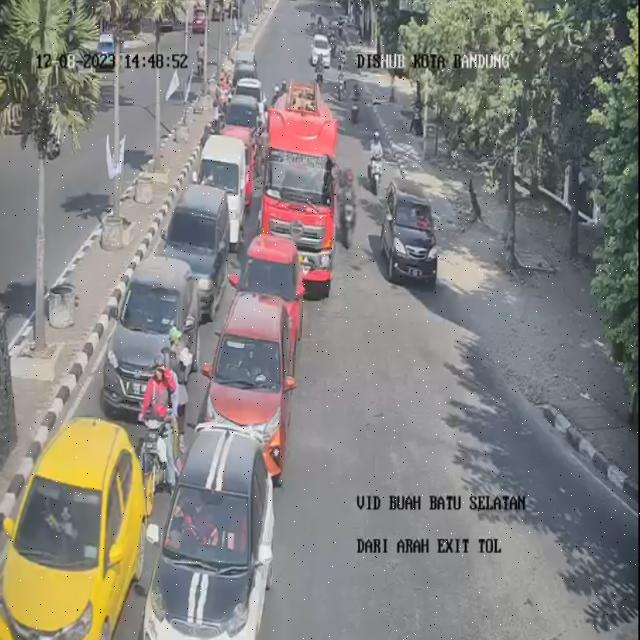cars: (0, 417, 138, 640), (149, 422, 278, 638), (210, 290, 295, 475), (111, 254, 200, 417), (168, 182, 226, 314), (237, 234, 302, 338), (384, 176, 442, 292), (196, 138, 248, 242), (226, 92, 263, 151), (238, 76, 266, 113), (255, 26, 278, 64), (320, 33, 339, 71), (237, 62, 260, 90)
motorcycle: (142, 350, 178, 483), (337, 167, 361, 247), (364, 130, 385, 198), (346, 81, 363, 123), (273, 56, 286, 94), (292, 35, 303, 68), (307, 35, 318, 62)
truck: (261, 106, 330, 285)
